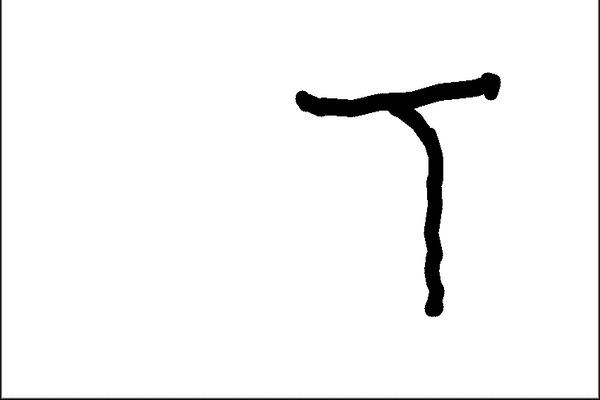T: (288, 67, 512, 326)
